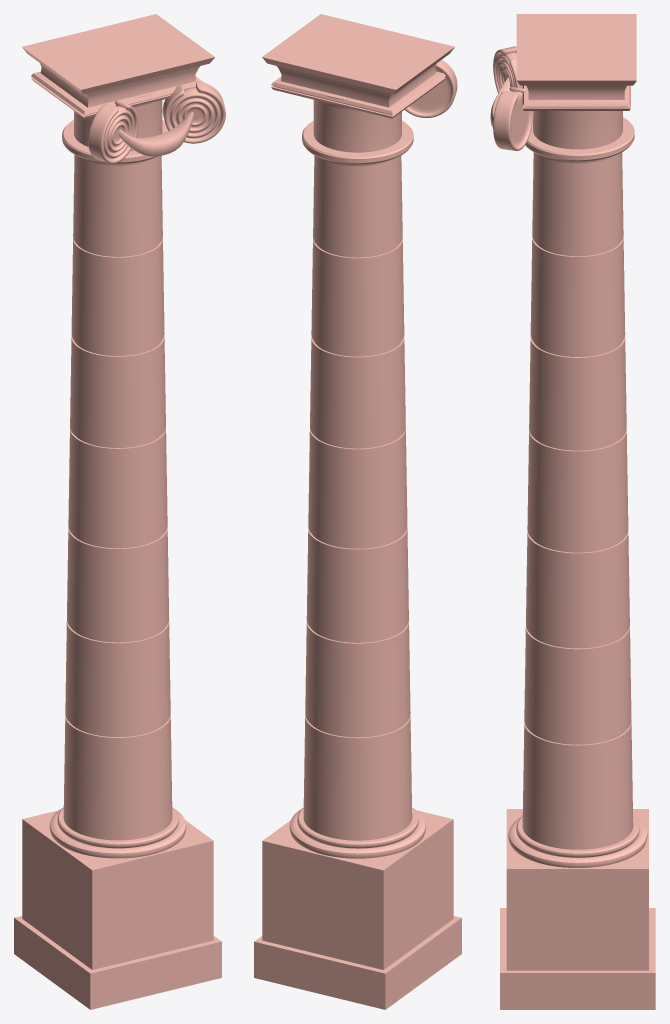
Rendered from Pillar.obj.
The picture shows the model from 3 angles, left to right: view 1: azimuth 30°, elevation 25°; view 2: azimuth 150°, elevation 25°; view 3: azimuth 270°, elevation 25°; orthographic projection.
Visible parts, largest first — view 1: objColumn; view 2: objColumn; view 3: objColumn.
Boxes of the visible parts, x1,y1,x2,y2 form: objColumn: (14, 14, 225, 1009); objColumn: (254, 14, 461, 1009); objColumn: (490, 14, 655, 1009).
Size of the model in its own units: 0.9392 by 5.9 by 0.9489.
